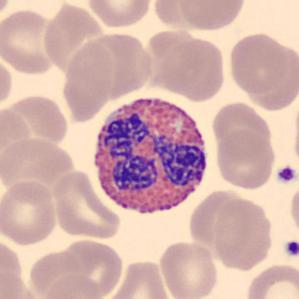Eosinophil: (88, 88, 214, 223)
Platelets: (274, 164, 297, 185), (282, 238, 299, 260)
RBC: (75, 31, 156, 100), (50, 167, 123, 241), (211, 195, 275, 272), (1, 135, 78, 198), (156, 35, 228, 102), (59, 38, 114, 123), (56, 235, 126, 299), (226, 30, 292, 96), (0, 6, 62, 76), (0, 179, 60, 247), (1, 90, 72, 146), (214, 129, 278, 190), (157, 239, 220, 299), (210, 100, 274, 155), (104, 258, 175, 299), (177, 0, 247, 32), (244, 261, 298, 299), (85, 0, 154, 29), (39, 272, 104, 299), (0, 267, 40, 299), (0, 54, 14, 110), (287, 182, 299, 239), (0, 0, 12, 21)
